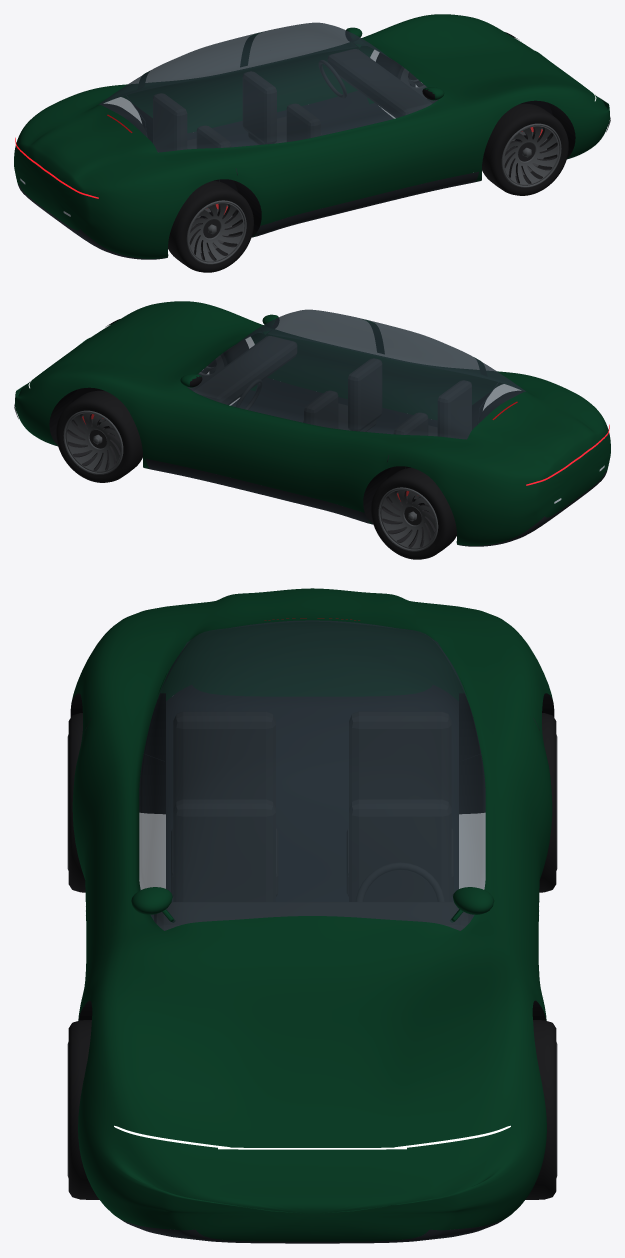
Rendered from vertigo-grand.glb.
3 views of the same model, one above another, from view 1: azimuth 30°, elevation 25°; view 2: azimuth 150°, elevation 25°; view 3: azimuth 270°, elevation 25° (orthographic). The views are drawn at different scales.
Parts seen in each view (by area): view 1: vertigo-grand_Body, wheel_FR.003, wheel_RR.003, vertigo-grand_Dash, vertigo-grand_SeatBack_0_1, vertigo-grand_SeatBack_1_1, vertigo-grand_SeatBack_0_-1, wheel_FL.003, vertigo-grand_SeatBack_1_-1; view 2: vertigo-grand_Body, wheel_FL.003, wheel_RL.003, vertigo-grand_Dash, vertigo-grand_SeatBack_0_-1, vertigo-grand_SeatBack_1_-1, vertigo-grand_SeatBack_0_1, wheel_FR.003, vertigo-grand_SeatBack_1_1; view 3: vertigo-grand_Body, vertigo-grand_SeatBack_0_-1, vertigo-grand_SeatBack_0_1, vertigo-grand_SeatBack_1_1, vertigo-grand_SeatBack_1_-1, vertigo-grand_Dash, wheel_FR.003, wheel_FL.003, wheel_RR.003, wheel_RL.003, steering_wheel.002, vertigo-grand_Mirror_L (+1 smaller).
Boxes of the visible parts, left/top/right/bottom form: vertigo-grand_Body: left=14, top=14, right=609, bottom=259; wheel_FR.003: left=482, top=103, right=568, bottom=195; wheel_RR.003: left=168, top=180, right=253, bottom=272; vertigo-grand_Dash: left=328, top=49, right=431, bottom=117; vertigo-grand_SeatBack_0_1: left=243, top=71, right=276, bottom=144; vertigo-grand_SeatBack_1_1: left=153, top=93, right=186, bottom=152; vertigo-grand_SeatBack_0_-1: left=287, top=104, right=320, bottom=141; wheel_FL.003: left=376, top=53, right=437, bottom=103; vertigo-grand_SeatBack_1_-1: left=197, top=126, right=230, bottom=148; vertigo-grand_Body: left=15, top=301, right=610, bottom=546; wheel_FL.003: left=56, top=390, right=142, bottom=482; wheel_RL.003: left=371, top=467, right=456, bottom=559; vertigo-grand_Dash: left=193, top=336, right=296, bottom=404; vertigo-grand_SeatBack_0_-1: left=348, top=358, right=381, bottom=431; vertigo-grand_SeatBack_1_-1: left=438, top=380, right=471, bottom=439; vertigo-grand_SeatBack_0_1: left=304, top=391, right=337, bottom=428; wheel_FR.003: left=187, top=340, right=248, bottom=390; vertigo-grand_SeatBack_1_1: left=394, top=413, right=427, bottom=435; vertigo-grand_Body: left=70, top=588, right=554, bottom=1243; vertigo-grand_SeatBack_0_-1: left=173, top=799, right=275, bottom=901; vertigo-grand_SeatBack_0_1: left=349, top=799, right=451, bottom=901; vertigo-grand_SeatBack_1_1: left=349, top=712, right=451, bottom=807; vertigo-grand_SeatBack_1_-1: left=173, top=712, right=275, bottom=807; vertigo-grand_Dash: left=154, top=902, right=470, bottom=930; wheel_FR.003: left=67, top=1020, right=99, bottom=1199; wheel_FL.003: left=525, top=1020, right=557, bottom=1199; wheel_RR.003: left=67, top=713, right=85, bottom=892; wheel_RL.003: left=539, top=713, right=557, bottom=892; steering_wheel.002: left=356, top=862, right=444, bottom=901; vertigo-grand_Mirror_L: left=453, top=887, right=494, bottom=914.
Size of the model in its own units: 5.06 by 1.38 by 2.01.
